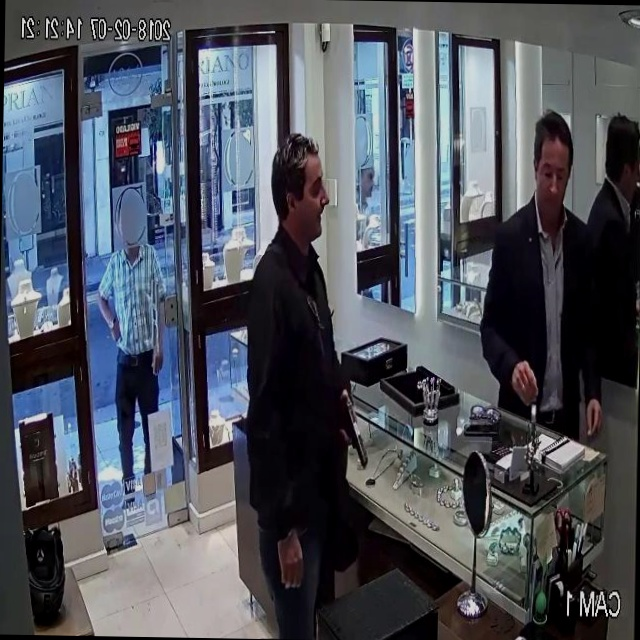gun: (331, 369, 377, 485)
